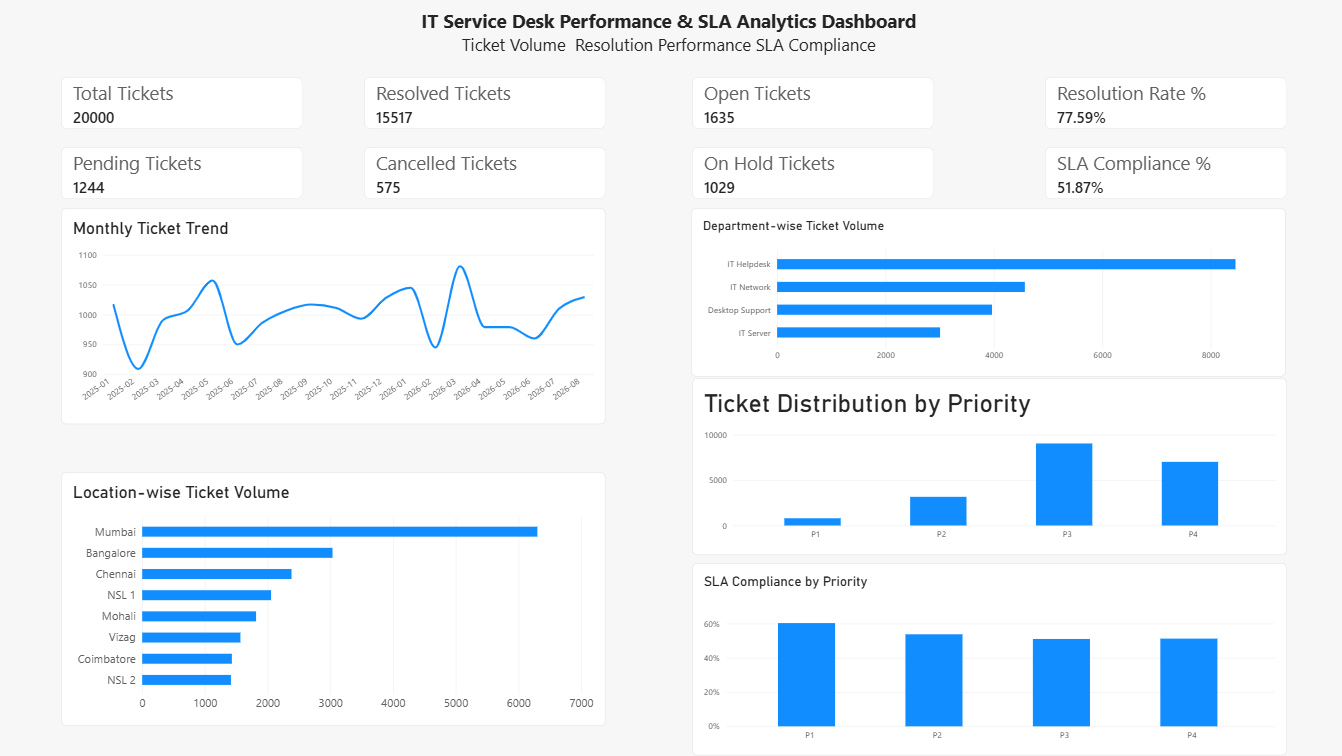

The page's visual inventory and layout, read from the dashboard file:
{"tool":"powerbi","page":{"name":"Page 1","canvas":[1920,1080],"ordinal":0},"visuals":[{"type":"cardVisual","fields":{"Data":["it_service_desk vw_it_service_desk_powerbi.Resolved Tickets"]},"box":[521.4,110.4,345.8,74.5],"z":0},{"type":"cardVisual","fields":{"Data":["it_service_desk vw_it_service_desk_powerbi.Open Tickets"]},"box":[989.6,110.4,345.8,74.5],"z":1000},{"type":"cardVisual","fields":{"Data":["it_service_desk vw_it_service_desk_powerbi.Pending Tickets"]},"box":[89.1,210.1,345.8,74.5],"z":2000},{"type":"cardVisual","fields":{"Data":["it_service_desk vw_it_service_desk_powerbi.On Hold Tickets"]},"box":[989.6,210.1,345.8,74.5],"z":3000},{"type":"cardVisual","fields":{"Data":["it_service_desk vw_it_service_desk_powerbi.Cancelled Tickets"]},"box":[521.4,210.1,345.8,74.5],"z":4000},{"type":"cardVisual","fields":{"Data":["it_service_desk vw_it_service_desk_powerbi.Resolution Rate %"]},"box":[1493.6,110.4,345.8,74.5],"z":5000},{"type":"cardVisual","fields":{"Data":["it_service_desk vw_it_service_desk_powerbi.SLA Compliance %"]},"box":[1493.6,210.1,345.8,74.5],"z":7000},{"type":"textbox","box":[17.3,12,1879.4,85.1],"z":8000},{"type":"cardVisual","fields":{"Data":["it_service_desk vw_it_service_desk_powerbi.Total Tickets"]},"box":[89.1,110.4,345.8,74.5],"z":9000},{"type":"lineChart","title":"Monthly Ticket Trend","fields":{"Category":["DateTable.Year_Month"],"Y":["it_service_desk vw_it_service_desk_powerbi.Total Tickets"]},"box":[89.1,296.6,778.1,308.6],"z":9001},{"type":"clusteredBarChart","title":"Location-wise Ticket Volume","fields":{"Category":["it_service_desk vw_it_service_desk_powerbi.Location"],"Y":["it_service_desk vw_it_service_desk_powerbi.Total Tickets"]},"box":[88.3,675,778.1,363.1],"z":9002},{"type":"clusteredColumnChart","title":"Ticket Distribution by Priority","fields":{"Category":["it_service_desk vw_it_service_desk_powerbi.Priority"],"Y":["it_service_desk vw_it_service_desk_powerbi.Total Tickets"]},"box":[989.6,540,849.9,252.7],"z":9003},{"type":"clusteredColumnChart","title":"SLA Compliance by Priority","fields":{"Category":["it_service_desk vw_it_service_desk_powerbi.Priority"],"Y":["it_service_desk vw_it_service_desk_powerbi.SLA Compliance % Corrected"]},"box":[989.6,804.7,849.9,275.3],"z":9004},{"type":"clusteredBarChart","title":"Department-wise Ticket Volume","fields":{"Category":["it_service_desk vw_it_service_desk_powerbi.Department"],"Y":["it_service_desk vw_it_service_desk_powerbi.Total Tickets"]},"box":[988.2,296.6,849.9,240.7],"z":9005}]}

Visuals, with their boxes in screenshot pixels (x1, y1, x2, y2), scaled from the page's 1920x1080 canvas onto the 1342x756 screenshot:
cardVisual - it_service_desk vw_it_service_desk_powerbi.Resolved Tickets: BBox(364, 77, 606, 129)
cardVisual - it_service_desk vw_it_service_desk_powerbi.Open Tickets: BBox(692, 77, 933, 129)
cardVisual - it_service_desk vw_it_service_desk_powerbi.Pending Tickets: BBox(62, 147, 304, 199)
cardVisual - it_service_desk vw_it_service_desk_powerbi.On Hold Tickets: BBox(692, 147, 933, 199)
cardVisual - it_service_desk vw_it_service_desk_powerbi.Cancelled Tickets: BBox(364, 147, 606, 199)
cardVisual - it_service_desk vw_it_service_desk_powerbi.Resolution Rate %: BBox(1044, 77, 1286, 129)
cardVisual - it_service_desk vw_it_service_desk_powerbi.SLA Compliance %: BBox(1044, 147, 1286, 199)
textbox: BBox(12, 8, 1326, 68)
cardVisual - it_service_desk vw_it_service_desk_powerbi.Total Tickets: BBox(62, 77, 304, 129)
"Monthly Ticket Trend" lineChart: BBox(62, 208, 606, 424)
"Location-wise Ticket Volume" clusteredBarChart: BBox(62, 472, 606, 727)
"Ticket Distribution by Priority" clusteredColumnChart: BBox(692, 378, 1286, 555)
"SLA Compliance by Priority" clusteredColumnChart: BBox(692, 563, 1286, 755)
"Department-wise Ticket Volume" clusteredBarChart: BBox(691, 208, 1285, 376)
